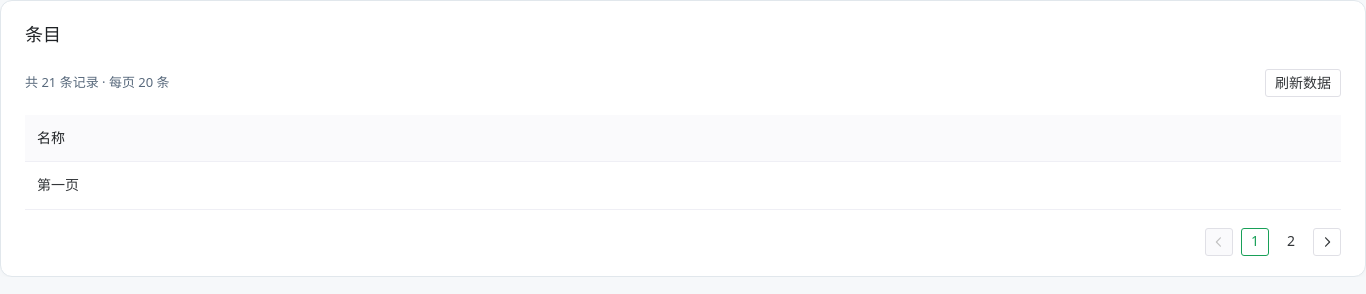
动态页面组件 › 表格分页向服务请求对应页码
Click the text with class "n-pagination-item" showing "2".
click(1291, 241)  # box [1287, 231, 1295, 250]
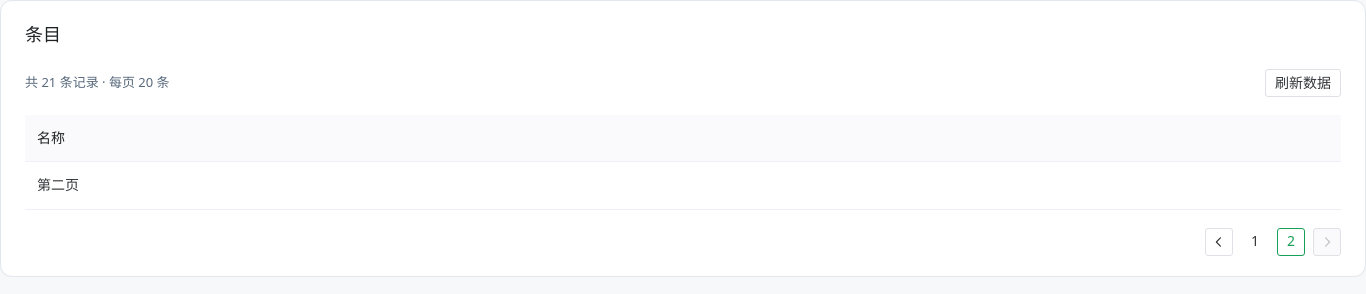
Check: the text "第二页" is shown, box [37, 175, 79, 194]
Check: the text "第一页" is gone
